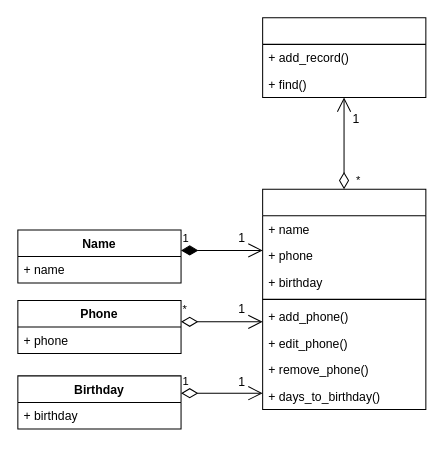
Image size: 444x450. Some labels were removed from this diagram. The box of each missing label's shape, as (x1, y1, x2, y2) in pixels:
AddressBook: (262, 17, 426, 97)
Record: (262, 188, 426, 410)
